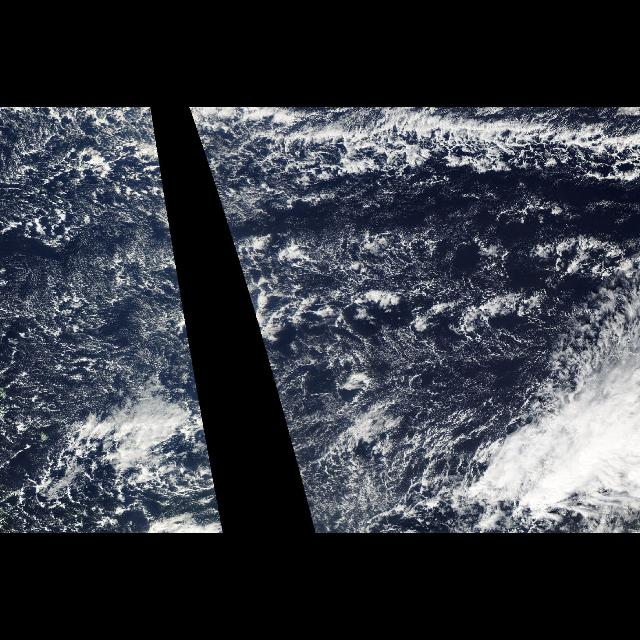Fish: (189, 107, 639, 381), (2, 110, 198, 380)
Gravel: (0, 145, 210, 533)
Sugar: (3, 242, 197, 396), (302, 182, 516, 242), (365, 337, 541, 409)
